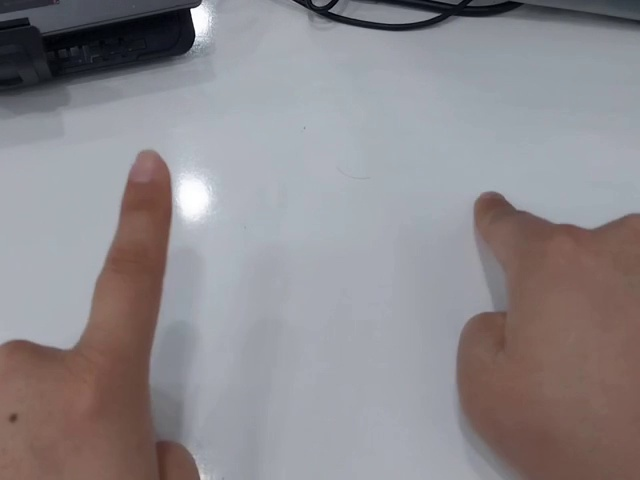fingers: (125, 148, 173, 203), (472, 190, 517, 236)
